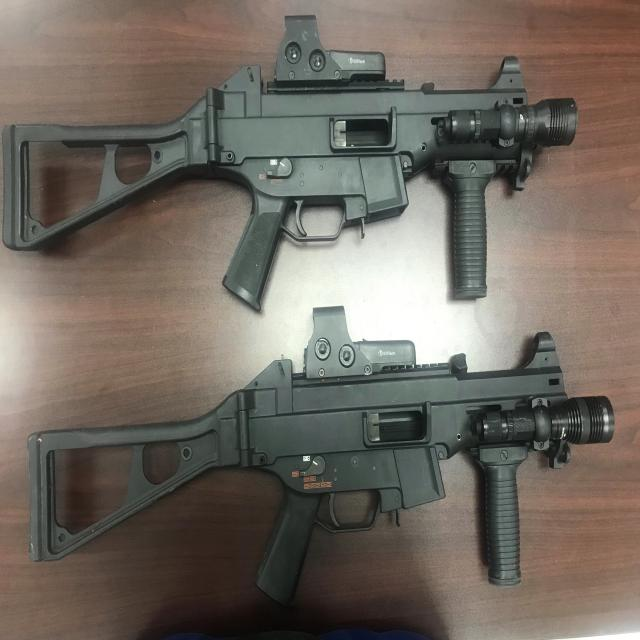SMG: (26, 306, 616, 605), (0, 15, 578, 313)
